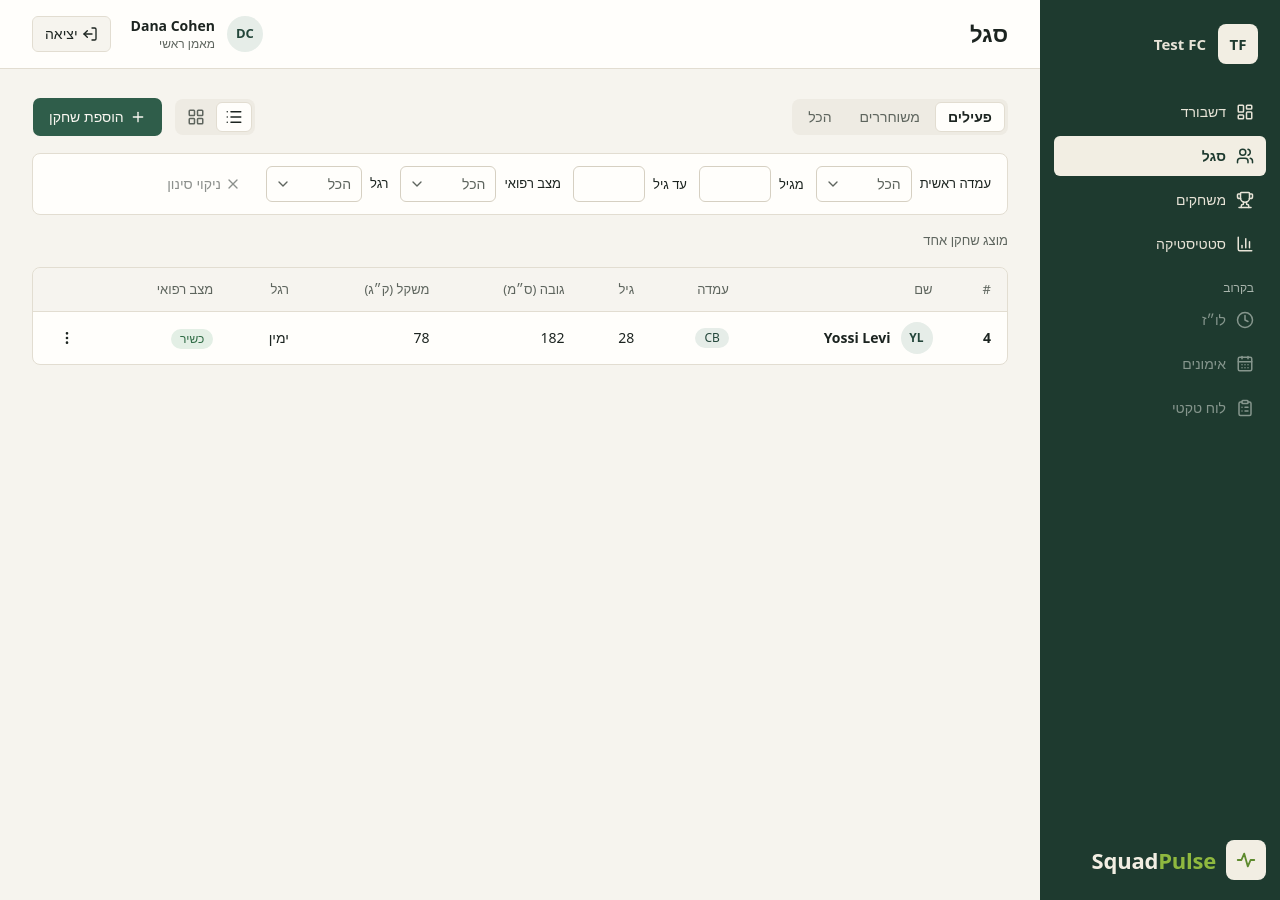
Test case: the list request › carries a foot, under the API's name, in the page URL too
The width and height of the screenshot is (1280, 900).
expect the heading "סגל" is shown: met, box [970,20,1008,48]
Click the dropdown named "רגל" at (314, 184), box [266,166,362,202]
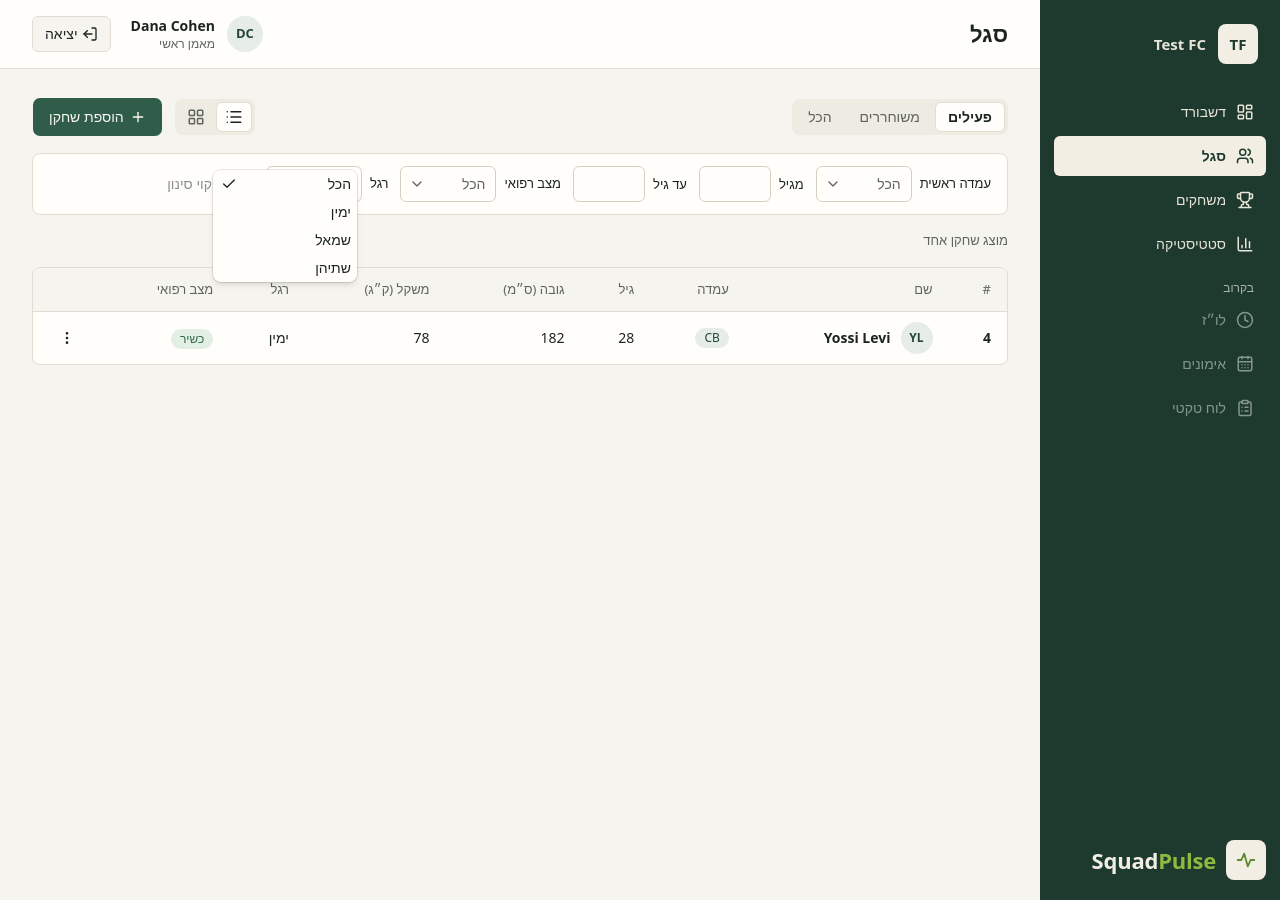
Click the option "שמאל" at (333, 240), box [315,230,351,249]
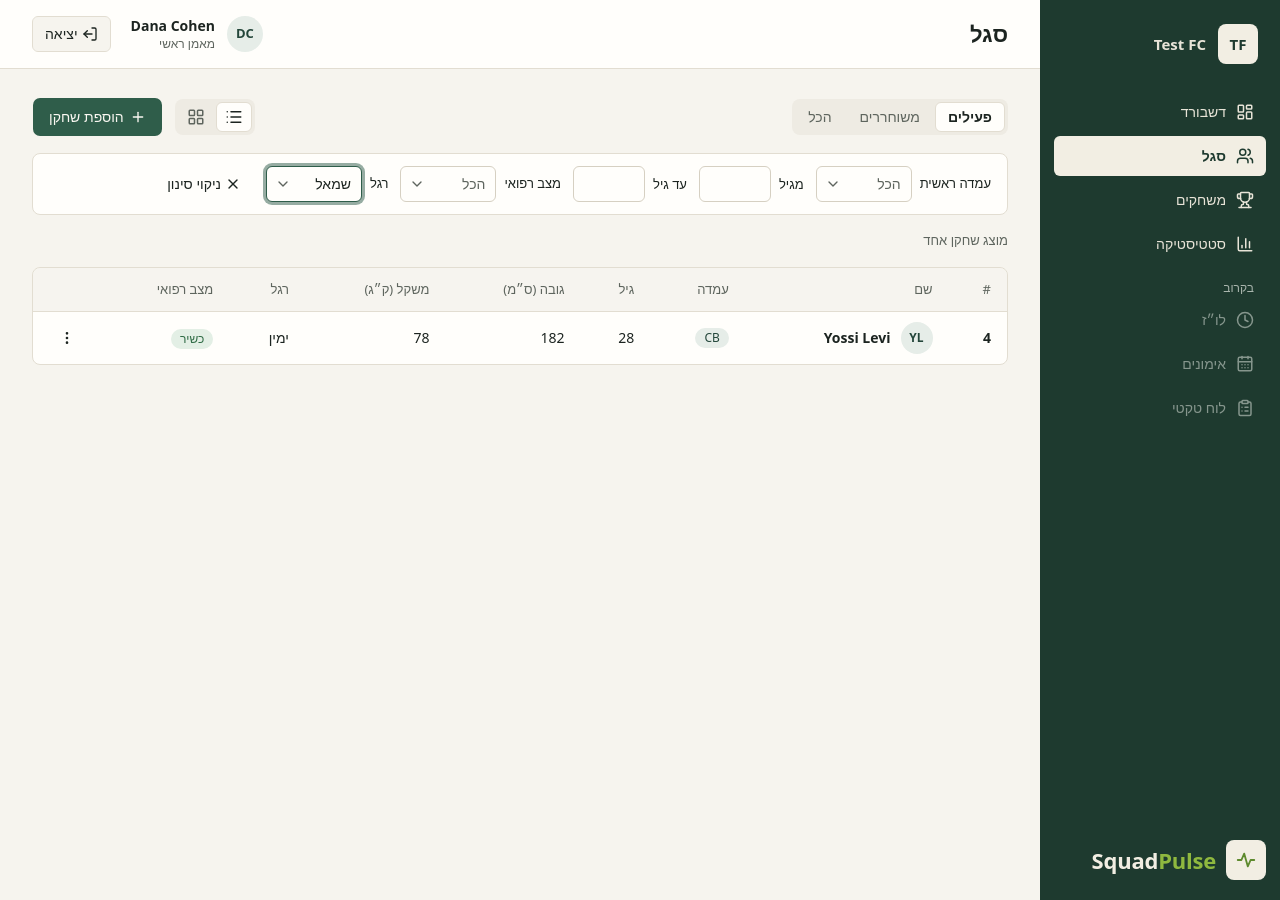
expect the list "הכל ימין שמאל שתיהן" is gone: met
